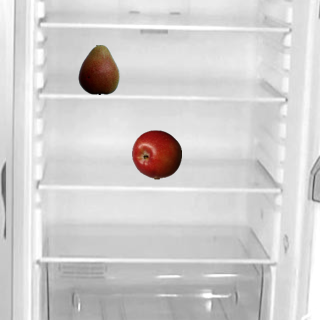Apple Braeburn: (131, 129, 181, 179)
Pear Forelle: (73, 44, 123, 94)
